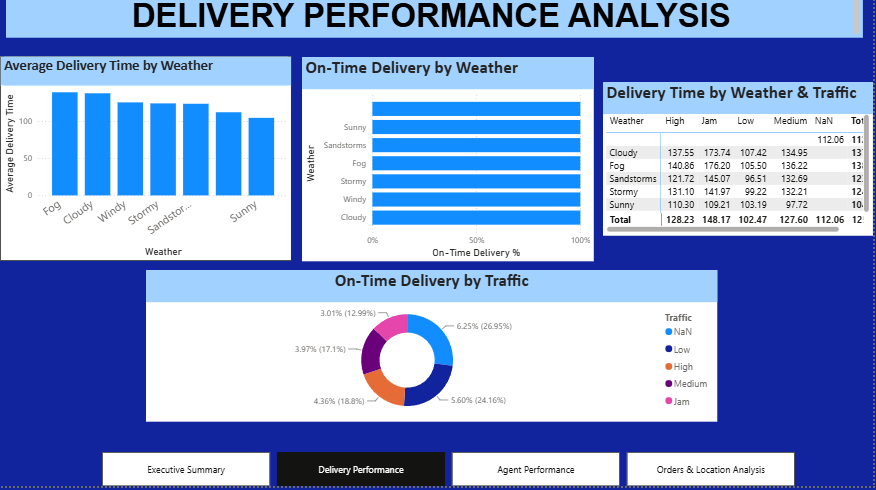

Layout of this report page (visuals, bound fields, positions):
{"tool":"powerbi","page":{"name":"Delivery Performance","canvas":[1280,720],"ordinal":1},"visuals":[{"type":"textbox","box":[11.6,0,1253.6,63.8],"z":0},{"type":"clusteredColumnChart","fields":{"Category":["amazondelivery_db delivery_details.Weather"],"Y":["amazondelivery_db delivery_details.Average Delivery Time"]},"box":[2.9,90.7,427.3,300],"z":1000},{"type":"pivotTable","title":"Delivery Time by Weather & Traffic","fields":{"Rows":["amazondelivery_db delivery_details.Weather"],"Columns":["amazondelivery_db delivery_details.Traffic"],"Values":["Avg(amazondelivery_db delivery_details.Delivery_Time)"]},"box":[884.9,128.8,395.1,225.4],"z":2000},{"type":"hundredPercentStackedBarChart","title":"On-Time Delivery by Weather","fields":{"Category":["amazondelivery_db delivery_details.Weather"],"Y":["amazondelivery_db delivery_details.On-Time Delivery %"]},"box":[444.1,92.8,427.3,298.5],"z":3000},{"type":"donutChart","title":"On-Time Delivery by Traffic","fields":{"Category":["amazondelivery_db delivery_details.Traffic"],"Y":["amazondelivery_db delivery_details.On-Time Delivery %"]},"box":[215.9,404.3,836.2,221.7],"z":4000},{"type":"pageNavigator","box":[152.2,669.6,1015.9,50.7],"z":5000}]}

Visuals, with their boxes in screenshot pixels (x1, y1, x2, y2), scaled from the page's 1280x720 canvas onto the 876x490 screenshot:
textbox: 8:0:866:43
clusteredColumnChart - amazondelivery_db delivery_details.Weather x amazondelivery_db delivery_details.Average Delivery Time: 2:62:294:266
"Delivery Time by Weather & Traffic" pivotTable: 606:88:875:241
"On-Time Delivery by Weather" hundredPercentStackedBarChart: 304:63:596:266
"On-Time Delivery by Traffic" donutChart: 148:275:720:426
pageNavigator: 104:456:799:489
